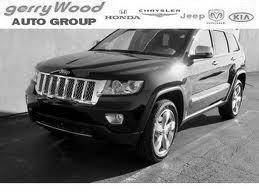car: (26, 30, 246, 165)
